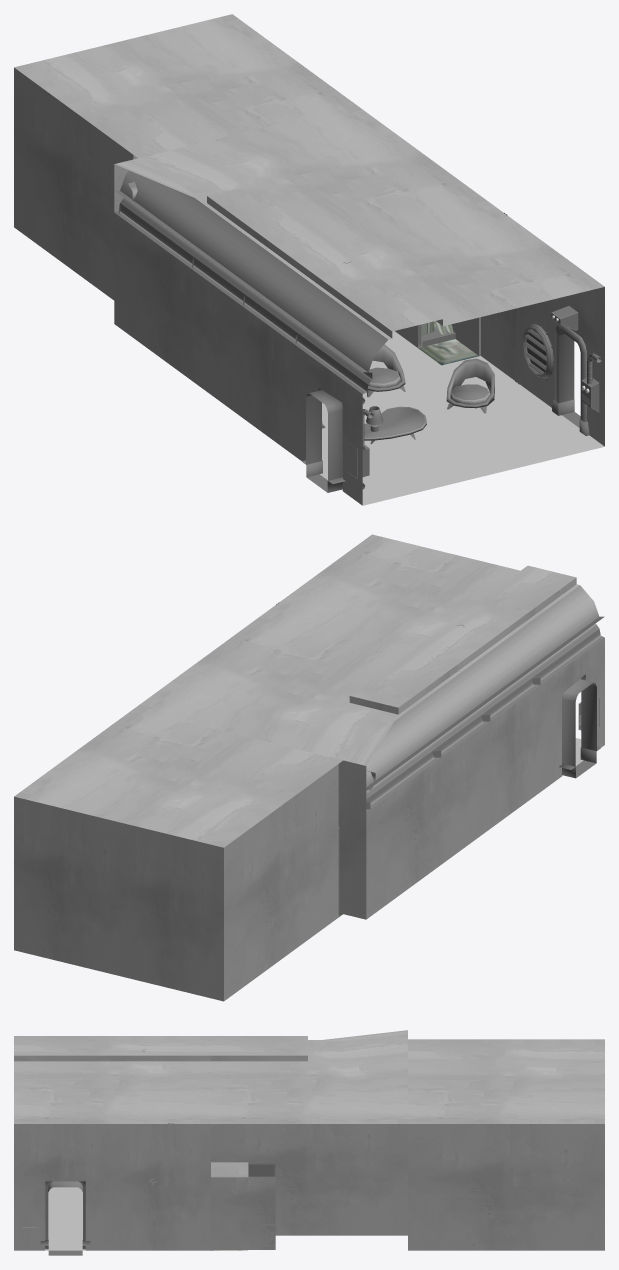
Rendered from MSH_living_quarters_L2_R1_optimized.fbx.
The picture shows the model from 3 angles, top to bottom: view 1: azimuth 30°, elevation 25°; view 2: azimuth 150°, elevation 25°; view 3: azimuth 270°, elevation 25°; orthographic projection. The views are drawn at different scales.
Visible parts, largest first — view 1: lightmap1, lightmap0, MSH_living_quarters_L2_R1_door; view 2: lightmap1, MSH_living_quarters_L2_R1_door; view 3: lightmap1, lightmap0, MSH_living_quarters_L2_R1_door.
Boxes of the visible parts, box(x1,y1,x2,y2) form: lightmap1: box(14, 14, 604, 505); lightmap0: box(128, 182, 602, 478); MSH_living_quarters_L2_R1_door: box(306, 331, 580, 492); lightmap1: box(14, 534, 604, 1001); MSH_living_quarters_L2_R1_door: box(562, 679, 596, 778); lightmap1: box(14, 1030, 604, 1250); lightmap0: box(23, 1049, 275, 1245); MSH_living_quarters_L2_R1_door: box(48, 1181, 82, 1255).
Size of the model in its own units: 10.3 by 6.17 by 24.77.
